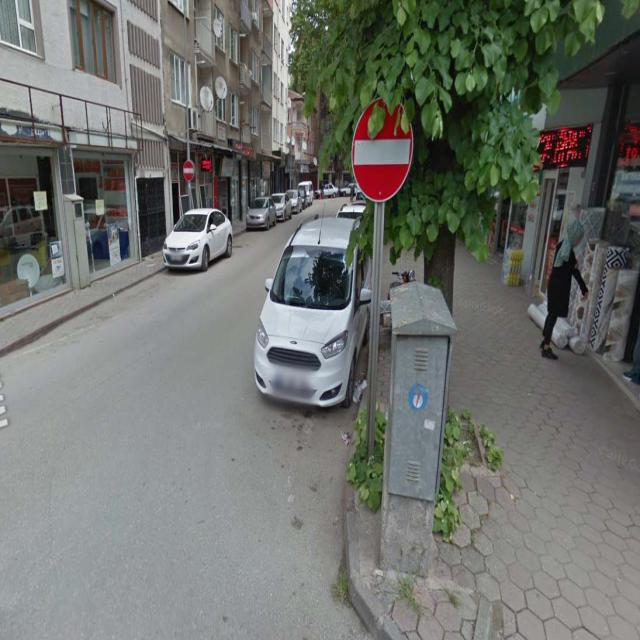girisyok: (352, 98, 412, 208), (182, 160, 194, 182)
